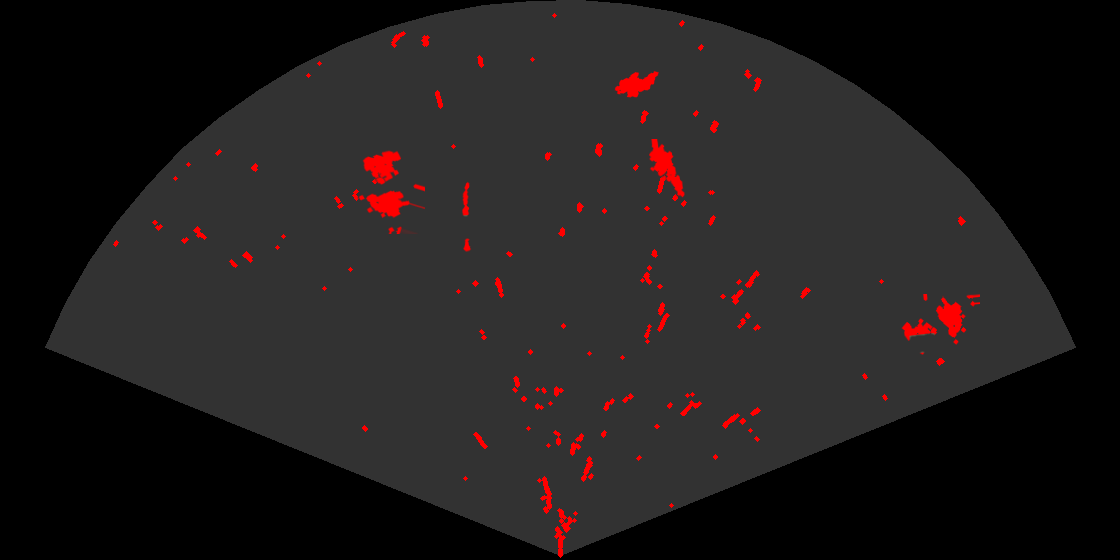AUV: (613, 69, 660, 99)
cage: (357, 149, 425, 234), (900, 294, 980, 356)
chain: (461, 180, 473, 252)
frogman: (648, 139, 686, 200)
